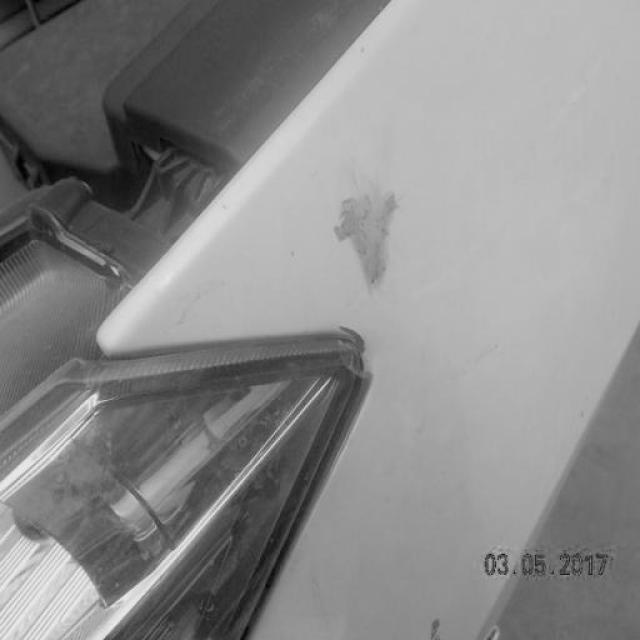car damage: (334, 186, 401, 292)
